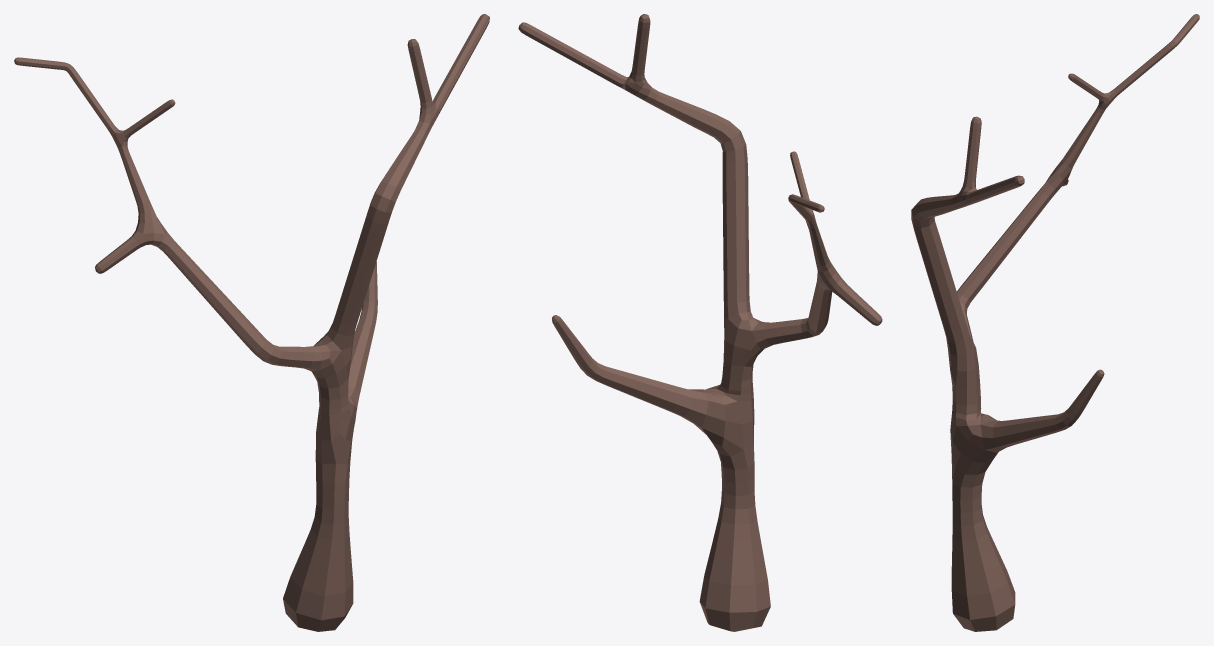
The model's file is SimpleTree.fbx.
3 views of the same model, side by side, from view 1: azimuth 30°, elevation 25°; view 2: azimuth 150°, elevation 25°; view 3: azimuth 270°, elevation 25° (orthographic). The views are drawn at different scales.
Visible parts, largest first — view 1: Vert; view 2: Vert; view 3: Vert.
Boxes of the visible parts, x1,y1,x2,y2 form: Vert: (14, 14, 489, 631); Vert: (518, 14, 882, 631); Vert: (911, 14, 1199, 631).
Bounding box in the file's own units: 459 × 647 × 306.
